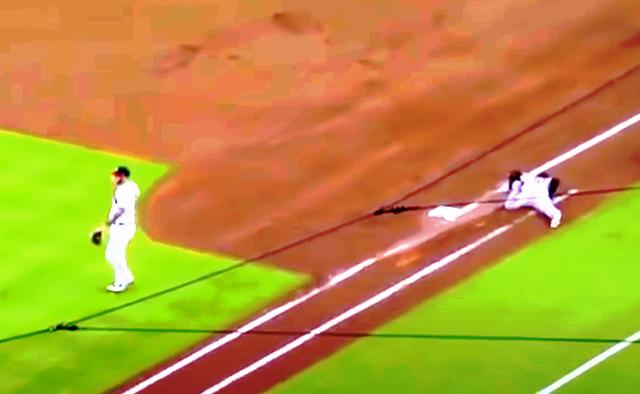jatuh: (492, 151, 566, 236)
